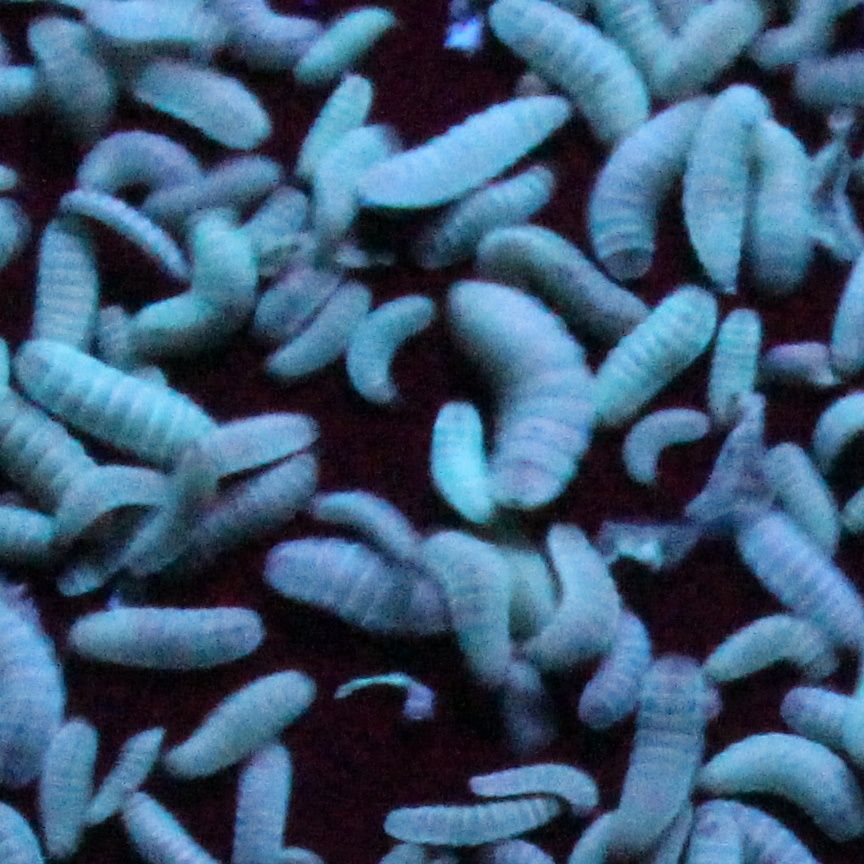larve: (452, 283, 595, 514), (12, 338, 214, 461), (595, 655, 718, 853), (589, 92, 715, 278), (353, 93, 576, 197), (589, 292, 719, 433), (162, 666, 317, 778), (688, 90, 762, 299), (419, 164, 564, 269), (424, 530, 520, 680), (57, 185, 196, 281), (72, 605, 267, 673), (526, 521, 619, 662), (131, 61, 272, 143), (345, 293, 441, 402), (31, 19, 112, 138), (270, 281, 372, 369), (758, 119, 810, 290), (317, 486, 426, 564), (431, 400, 498, 524), (64, 462, 176, 535), (296, 74, 376, 176), (38, 721, 98, 857), (581, 609, 650, 724), (384, 797, 555, 843), (74, 131, 207, 188), (289, 7, 391, 80), (707, 621, 834, 676), (619, 412, 712, 481), (719, 304, 764, 426), (469, 771, 602, 809)
